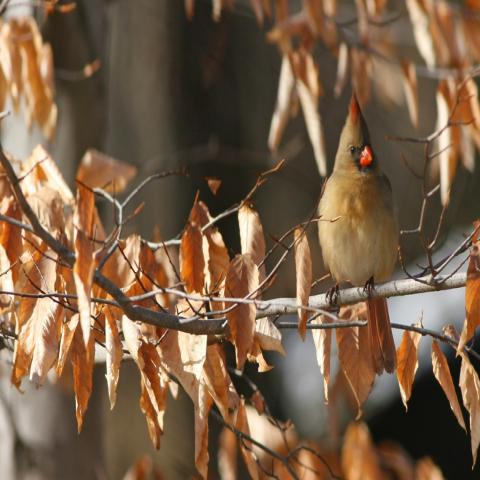bird: (314, 87, 401, 377)
